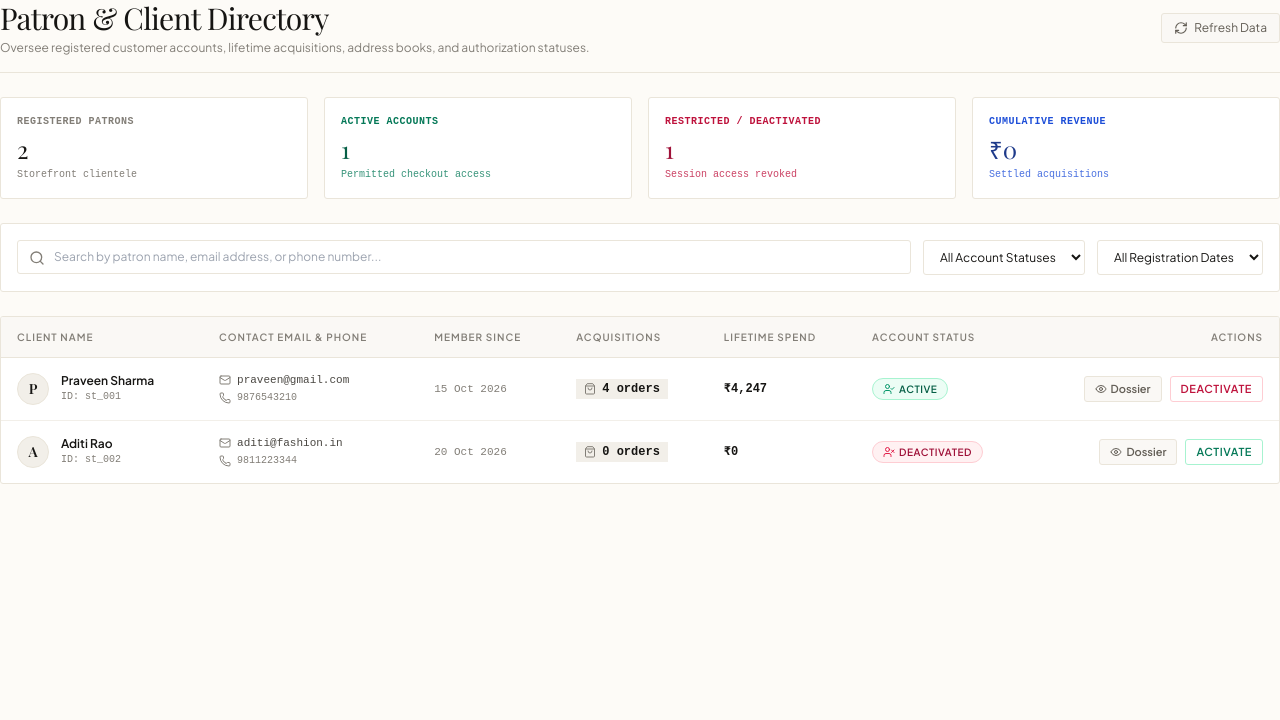
Frontend Admin Suite (/admin/*) › AdminCustomersPage (/admin/customers) › opens deactivation confirmation modal when action button clicked
Click the button "Deactivate" at (1216, 389), box [1170,376,1263,402]
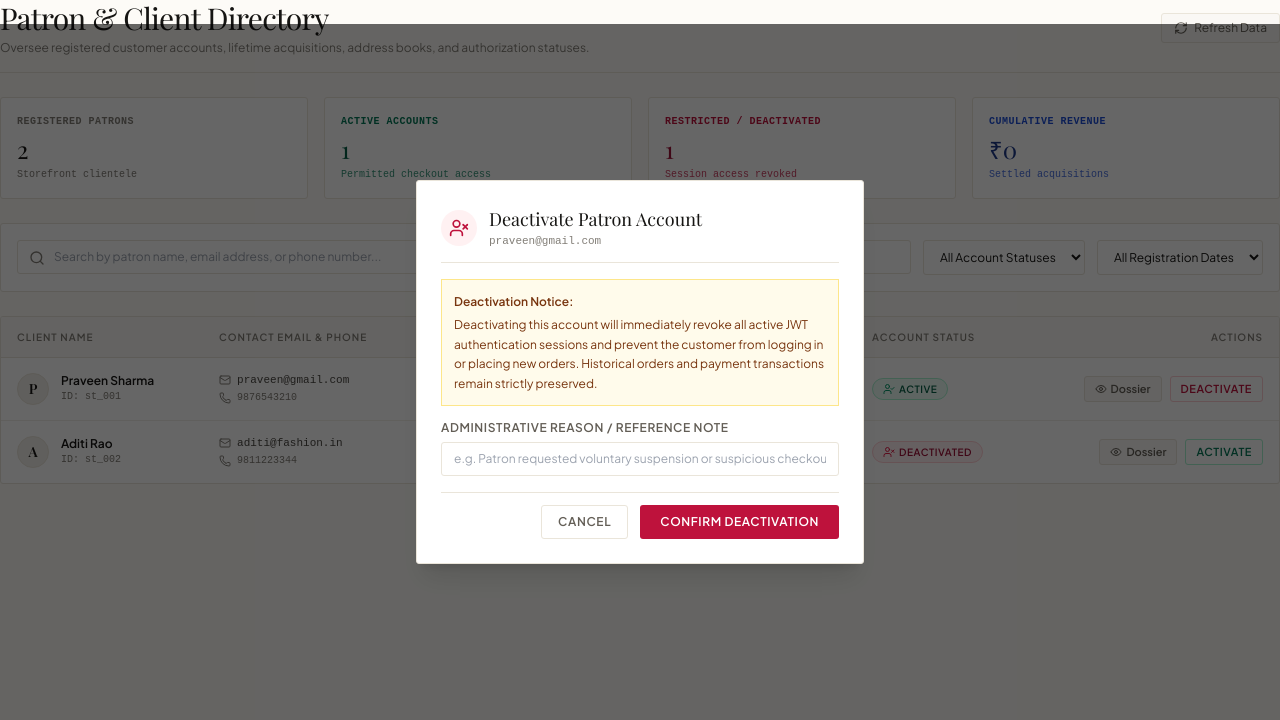
Expected: the heading "Deactivate Patron Account" is shown, [489,205,702,233]
Expected: the text "Deactivation Notice:" is shown, [454,294,573,309]
